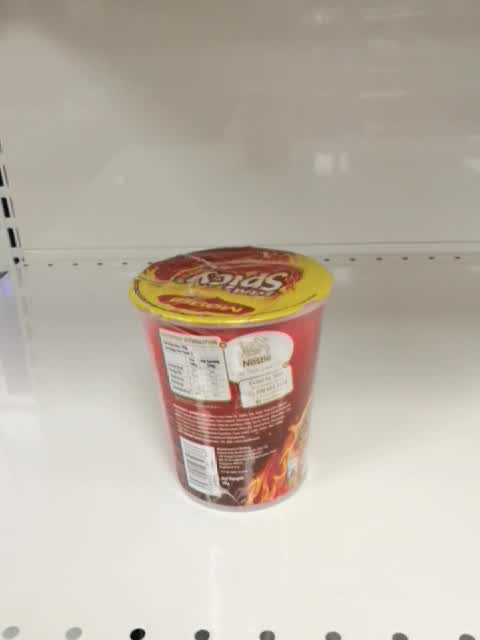maggi: (130, 246, 337, 513)
